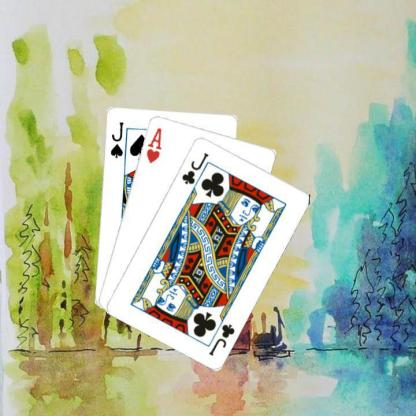AH: (143, 125, 163, 164)
JC: (179, 150, 210, 186), (206, 321, 236, 356)
JS: (108, 119, 124, 159)
